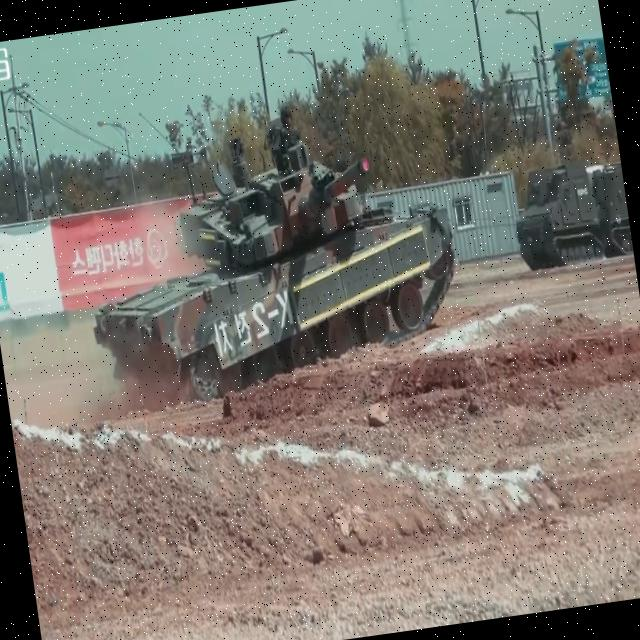korea tank: (65, 84, 473, 416)
